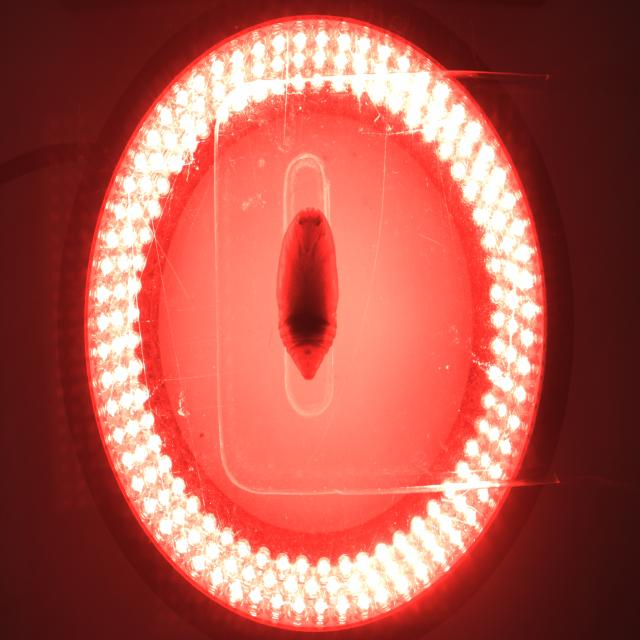male: (301, 347, 317, 360)
